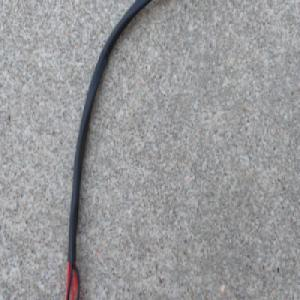Wire: (62, 0, 157, 300)
